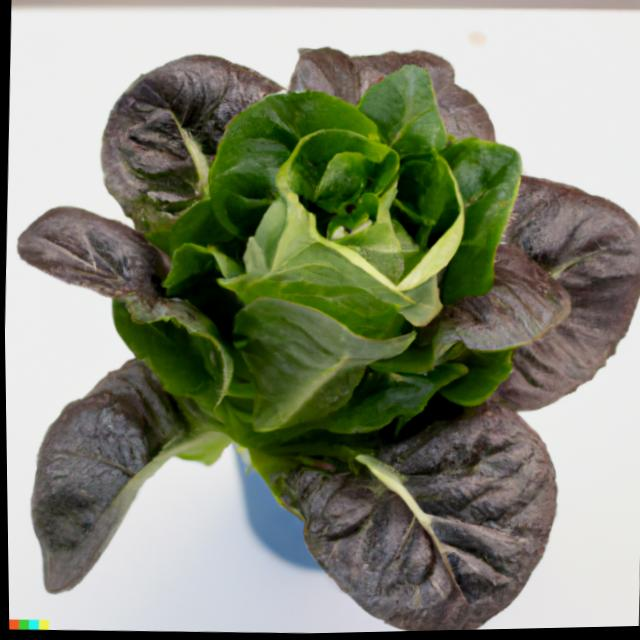-K: (0, 19, 640, 640)
